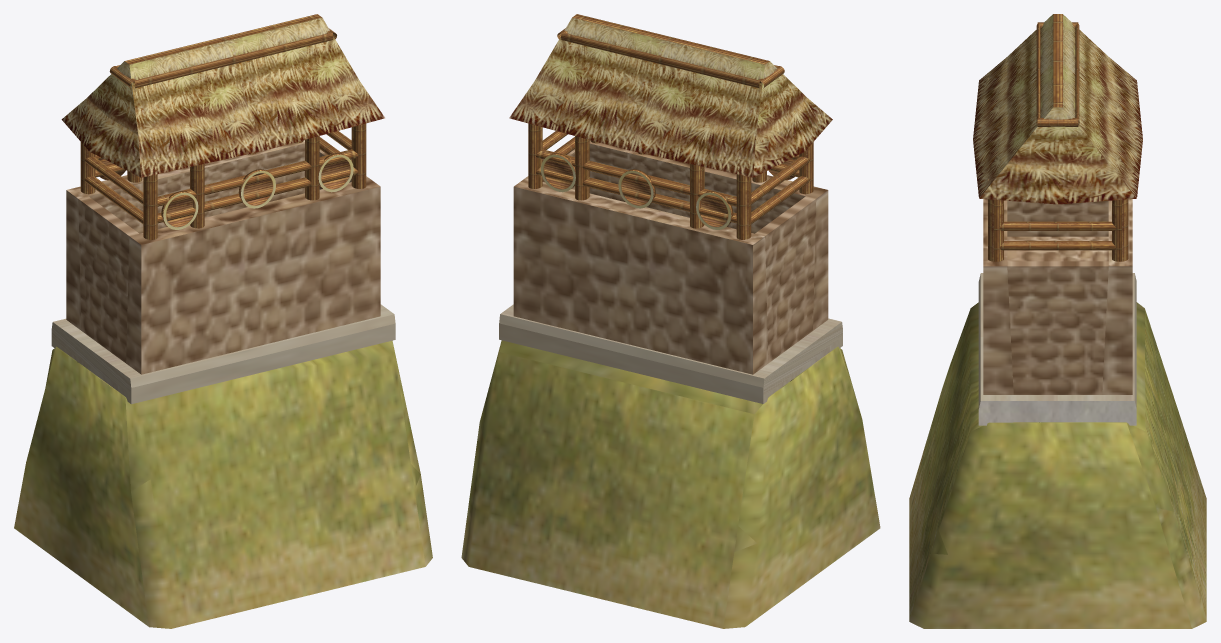
The model's file is maya_wall_tower.dae.
The picture shows the model from 3 angles, left to right: view 1: azimuth 30°, elevation 25°; view 2: azimuth 150°, elevation 25°; view 3: azimuth 270°, elevation 25°; orthographic projection.
Visible parts, largest first — view 1: torre; view 2: torre; view 3: torre.
Boxes of the visible parts, x1,y1,x2,y2 form: torre: (14, 14, 432, 628); torre: (461, 14, 880, 628); torre: (909, 14, 1206, 628).
Bounding box in the file's own units: 10.01 × 9.15 × 16.97.
